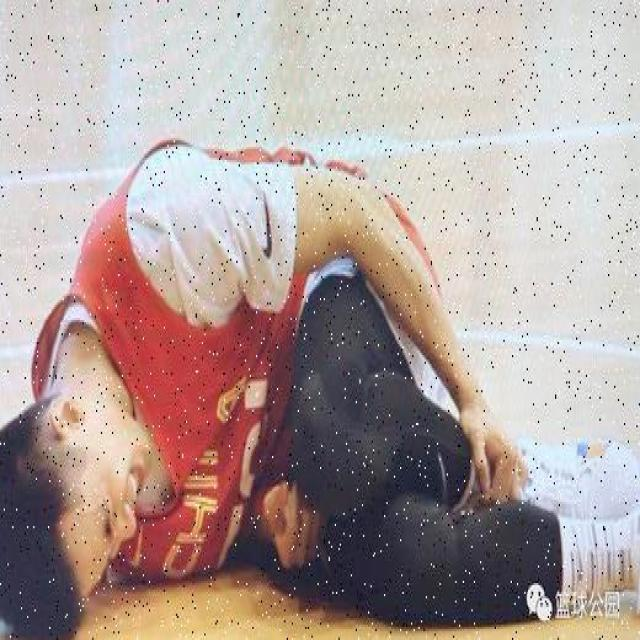fall: (6, 152, 528, 636)
